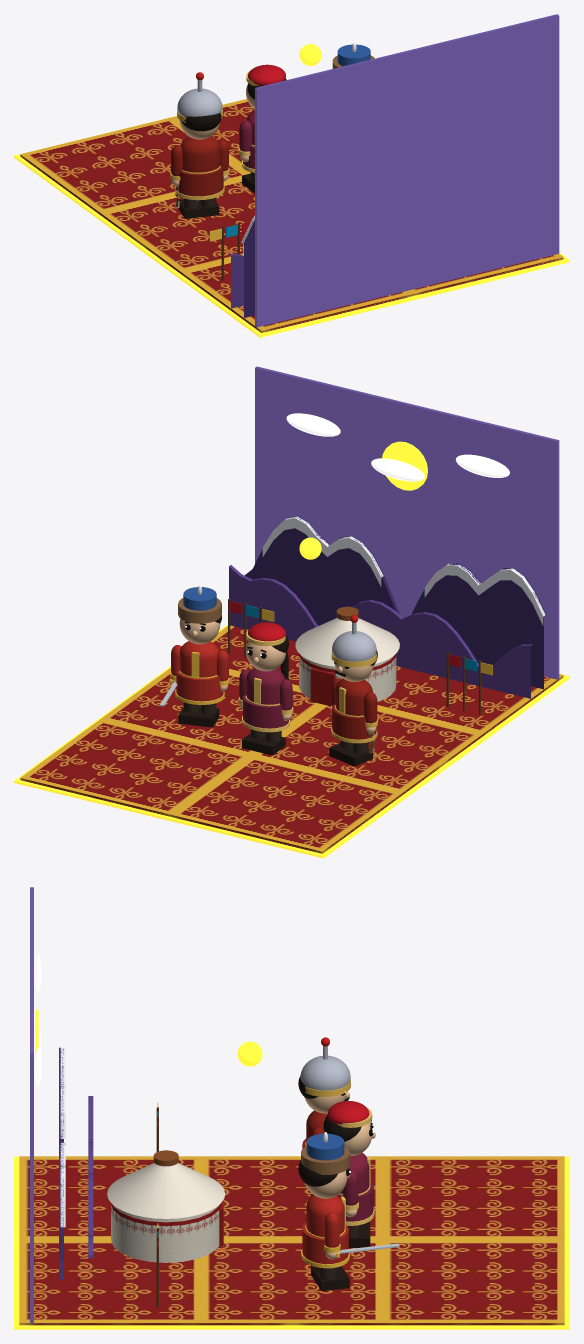
The model's file is cover.glb.
The picture shows the model from 3 angles, top to bottom: view 1: azimuth 30°, elevation 25°; view 2: azimuth 150°, elevation 25°; view 3: azimuth 270°, elevation 25°; orthographic projection. The views are drawn at different scales.
Visible parts, largest first — view 1: Аспан, Жер, Жиек, Torso, Helmet, Skirt, Жота, Жота 2, Takiya, Borik, Hair; view 2: Аспан, Жер, Жота, Жота 2, Жиек, Қар, Torso (×3), Skirt (×3), Бұлт (×3), Күмбез, Face (×2), Кереге (+5 smaller); view 3: Жер, Күмбез, Жиек, Кереге, Аспан, Torso (×2), Helmet, Қар, Жота 2, Skirt, Жота, Borik (+3 smaller).
Part boxes in pixels (<box>): Аспан: <box>255,14,559,328</box>; Жер: <box>20,99,563,332</box>; Жиек: <box>14,99,569,337</box>; Torso: <box>180,136,219,172</box>; Helmet: <box>177,88,222,116</box>; Skirt: <box>177,166,223,196</box>; Жота: <box>242,219,254,317</box>; Жота 2: <box>229,253,243,308</box>; Takiya: <box>248,64,285,85</box>; Borik: <box>337,44,370,66</box>; Hair: <box>181,112,221,131</box>; Аспан: <box>255,366,559,679</box>; Жер: <box>20,625,563,853</box>; Жота: <box>245,516,546,689</box>; Жота 2: <box>229,565,532,698</box>; Жиек: <box>14,624,569,858</box>; Қар: <box>262,516,545,625</box>; Torso (×3): <box>180,641,372,715</box>; Skirt (×3): <box>176,671,376,739</box>; Бұлт (×3): <box>286,413,509,481</box>; Күмбез: <box>295,618,399,666</box>; Face (×2): <box>179,618,285,671</box>; Кереге: <box>299,654,396,701</box>; Жер: <box>19,1156,564,1325</box>; Күмбез: <box>107,1163,225,1218</box>; Жиек: <box>14,1156,569,1329</box>; Кереге: <box>111,1205,219,1262</box>; Аспан: <box>30,887,33,1324</box>; Torso (×2): <box>306,1152,369,1237</box>; Helmet: <box>300,1055,350,1090</box>; Қар: <box>60,1047,65,1227</box>; Жота 2: <box>88,1096,93,1258</box>; Skirt: <box>302,1222,348,1264</box>; Жота: <box>59,1047,63,1279</box>; Borik: <box>306,1133,344,1160</box>.
Size of the model in its own units: 0.9635 by 0.7206 by 1.33.
Materials: 38 (2 with a texture image).
